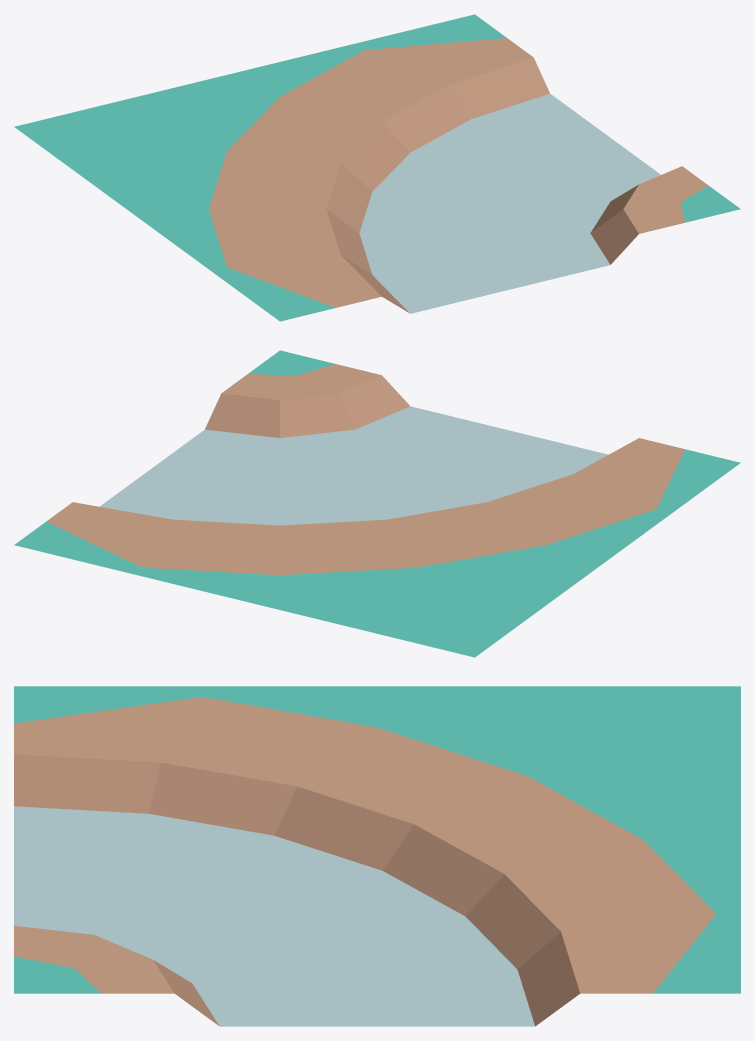
The model's file is ground_riverBendBank.glb.
3 renders of one model, top to bottom at view 1: azimuth 30°, elevation 25°; view 2: azimuth 150°, elevation 25°; view 3: azimuth 270°, elevation 25°, orthographic. The views are drawn at different scales.
Parts seen in each view (by area): view 1: ground_riverBendBank; view 2: ground_riverBendBank; view 3: ground_riverBendBank.
Part boxes in pixels (<box>): ground_riverBendBank: <box>14,14,740,321</box>; ground_riverBendBank: <box>14,350,740,657</box>; ground_riverBendBank: <box>14,686,740,1026</box>.
Bounding box in the file's own units: 1 × 0.05 × 1.
